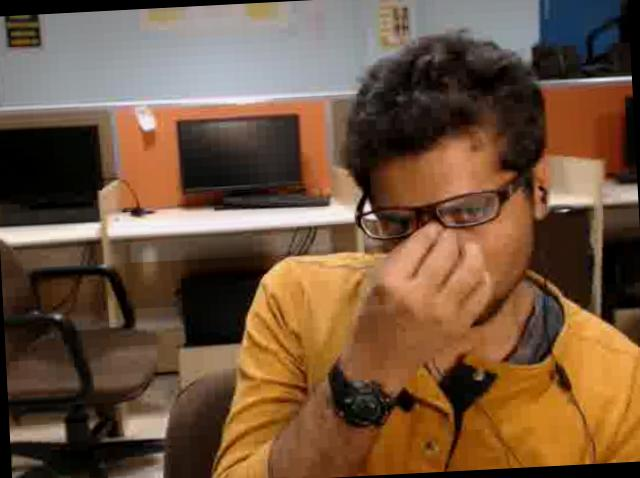bosan: (380, 130, 530, 318)
